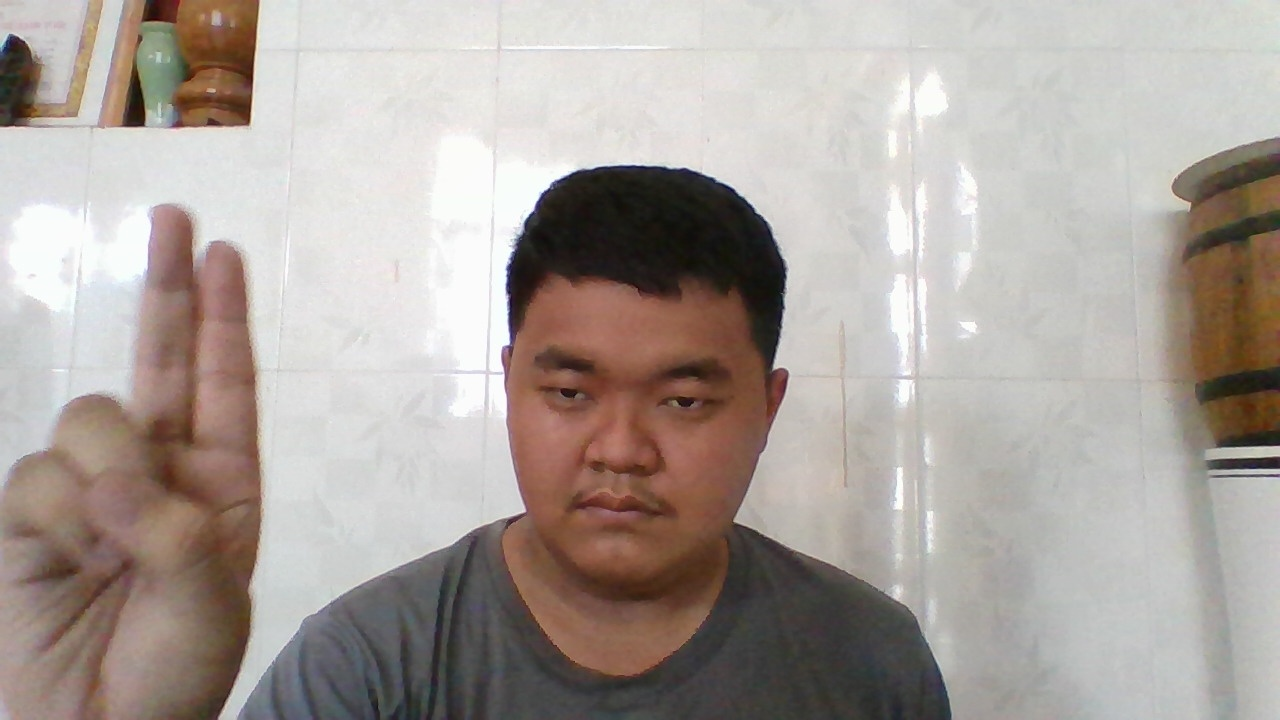U: (19, 210, 240, 661)
